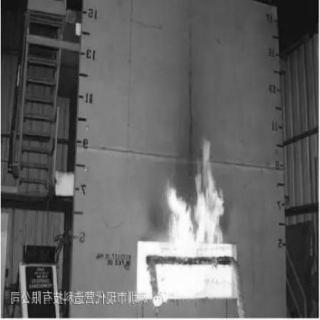Fire: (154, 130, 236, 294)
